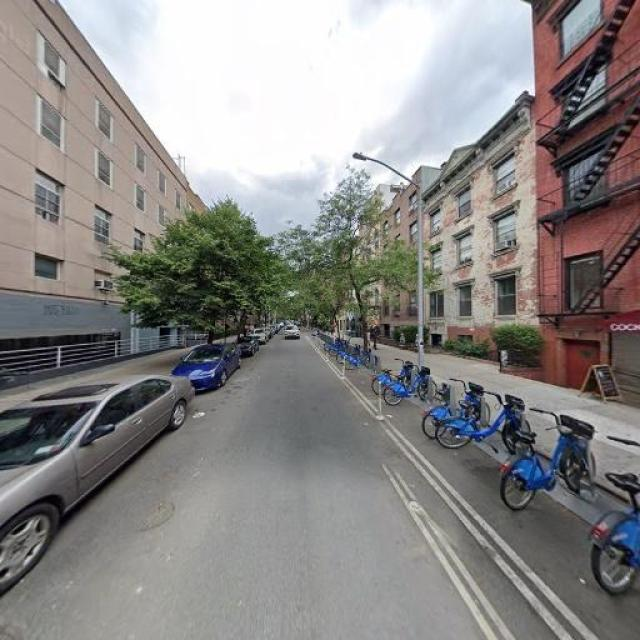Building: (1, 1, 194, 390), (543, 1, 640, 409), (425, 94, 536, 383)
